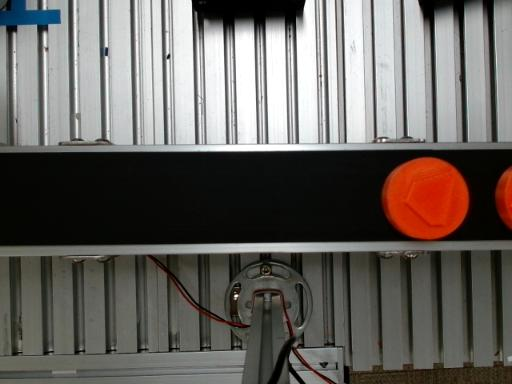Not_Square: (404, 169, 457, 227)
Orange_Waper: (382, 157, 469, 239), (495, 166, 511, 230)
